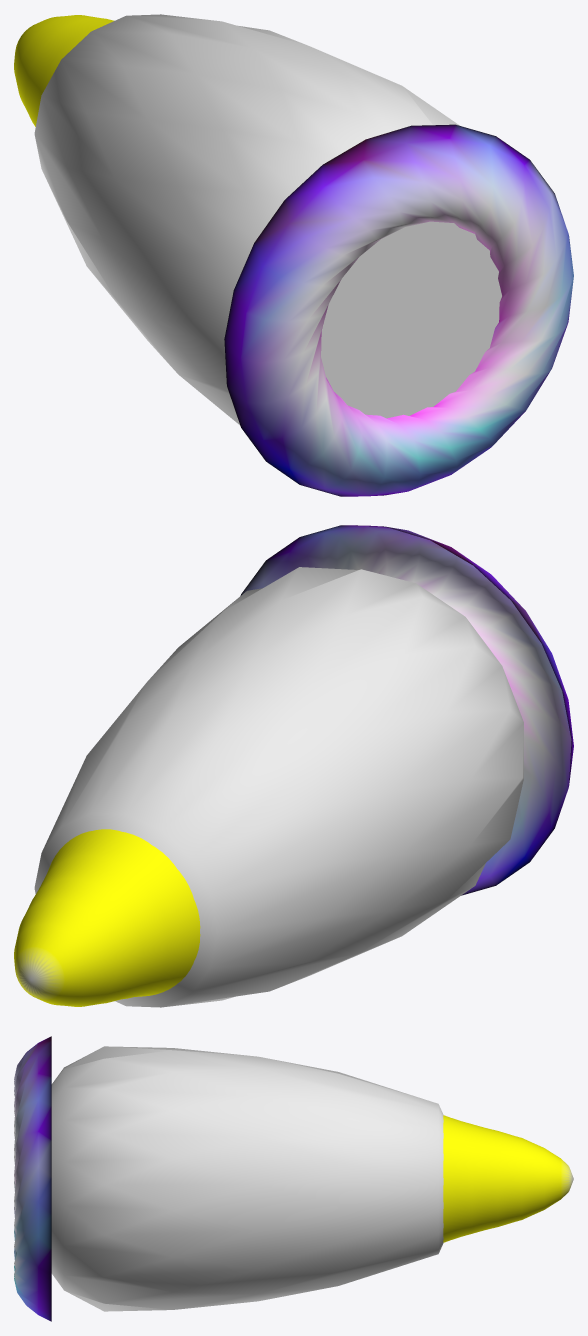
The model's file is Pratol2.fbx.
3 views of the same model, one above another, from view 1: azimuth 30°, elevation 25°; view 2: azimuth 150°, elevation 25°; view 3: azimuth 270°, elevation 25° (orthographic). The views are drawn at different scales.
Parts seen in each view (by area): view 1: Space_Distortion_Stencil, Spatial_Dust, pasted__Space_Tunnel_Stencil, Space_Tunnel; view 2: Space_Distortion_Stencil, Space_Tunnel, Spatial_Dust; view 3: Space_Distortion_Stencil, Space_Tunnel, Spatial_Dust.
Boxes of the visible parts, x1,y1,x2,y2 form: Space_Distortion_Stencil: (34, 14, 459, 425); Spatial_Dust: (224, 124, 573, 496); pasted__Space_Tunnel_Stencil: (321, 221, 501, 418); Space_Tunnel: (14, 15, 114, 126); Space_Distortion_Stencil: (34, 567, 523, 1007); Space_Tunnel: (14, 829, 200, 1006); Spatial_Dust: (240, 525, 573, 895); Space_Distortion_Stencil: (51, 1046, 443, 1311); Space_Tunnel: (443, 1115, 573, 1242); Spatial_Dust: (14, 1036, 51, 1321).
Bounding box in the file's own units: 918 × 918 × 1804.
